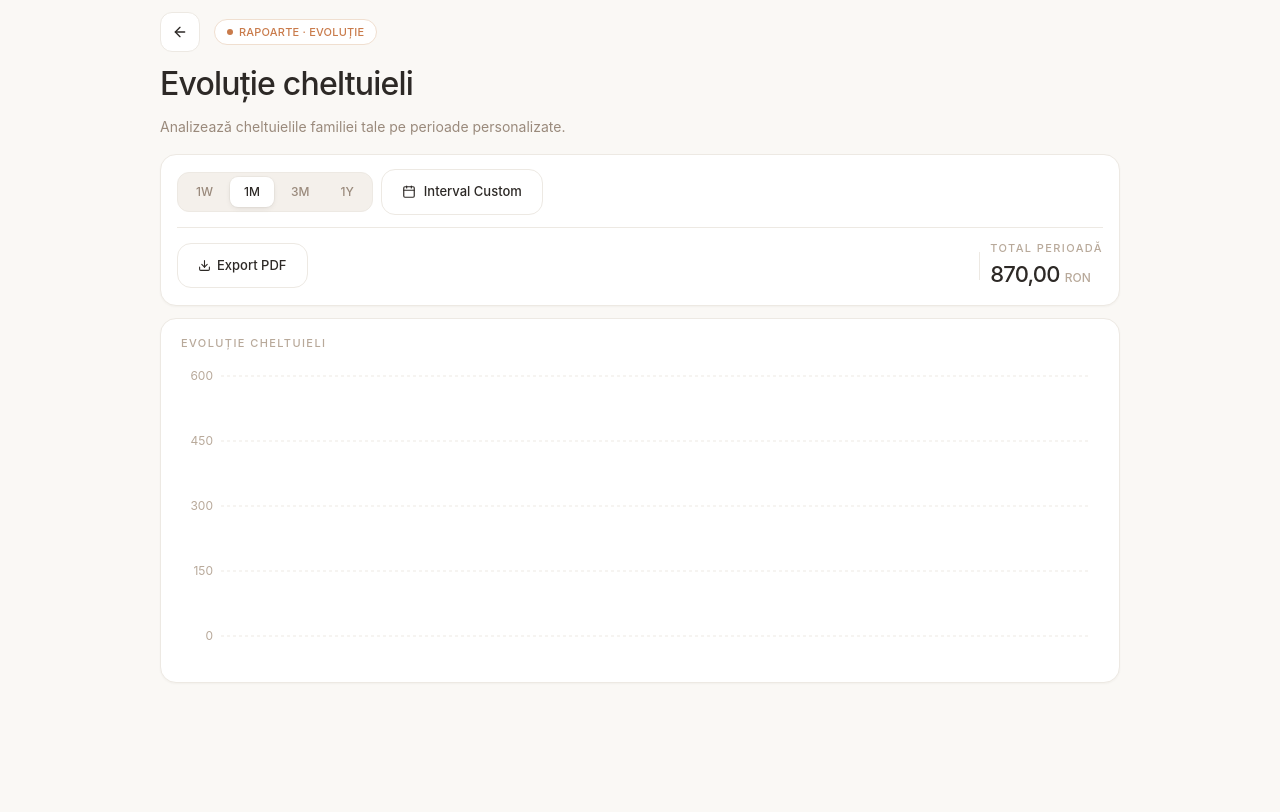
Reports Component › afișează eroare cronologică dacă start > end
Click the button "Interval Custom": click(462, 192) left=381, top=169, right=543, bottom=215
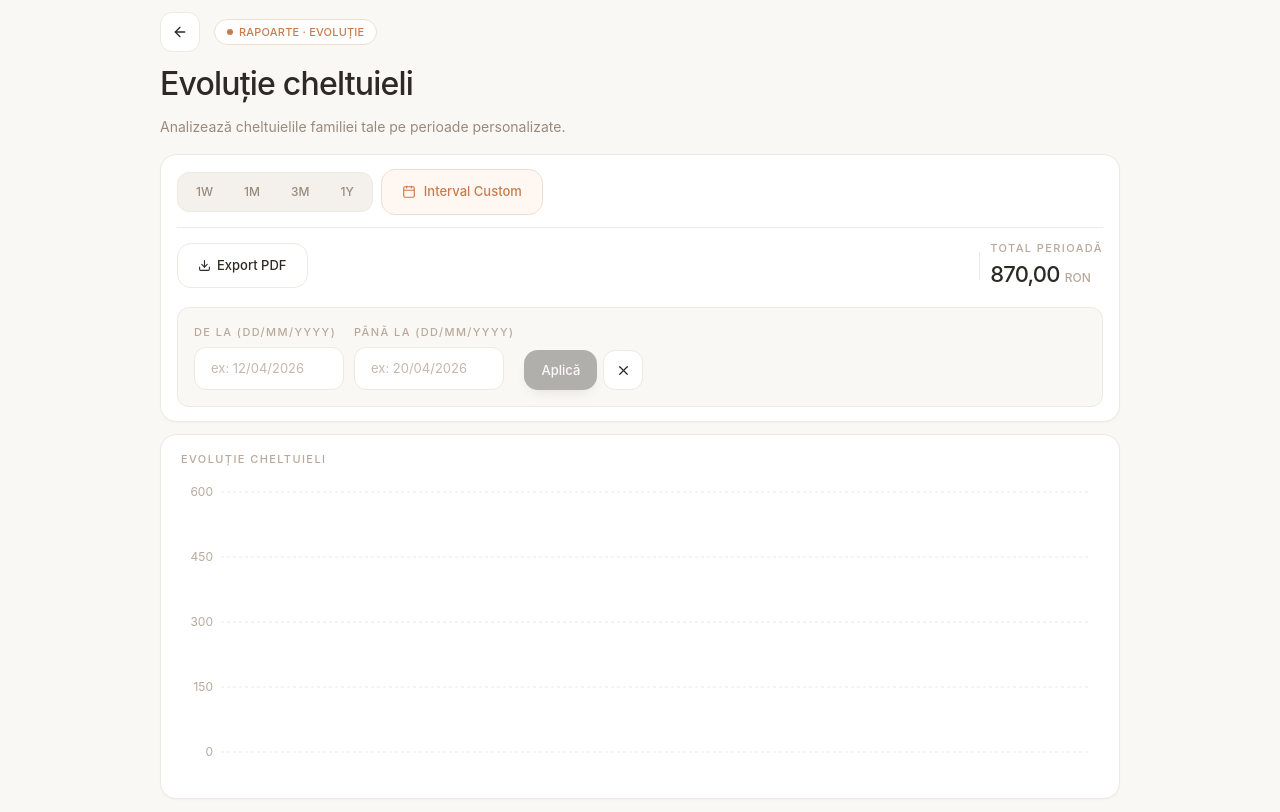
In the field with placeholder "ex: 12/04/2026": (269, 369) left=194, top=347, right=344, bottom=390, type "20/04/2026"
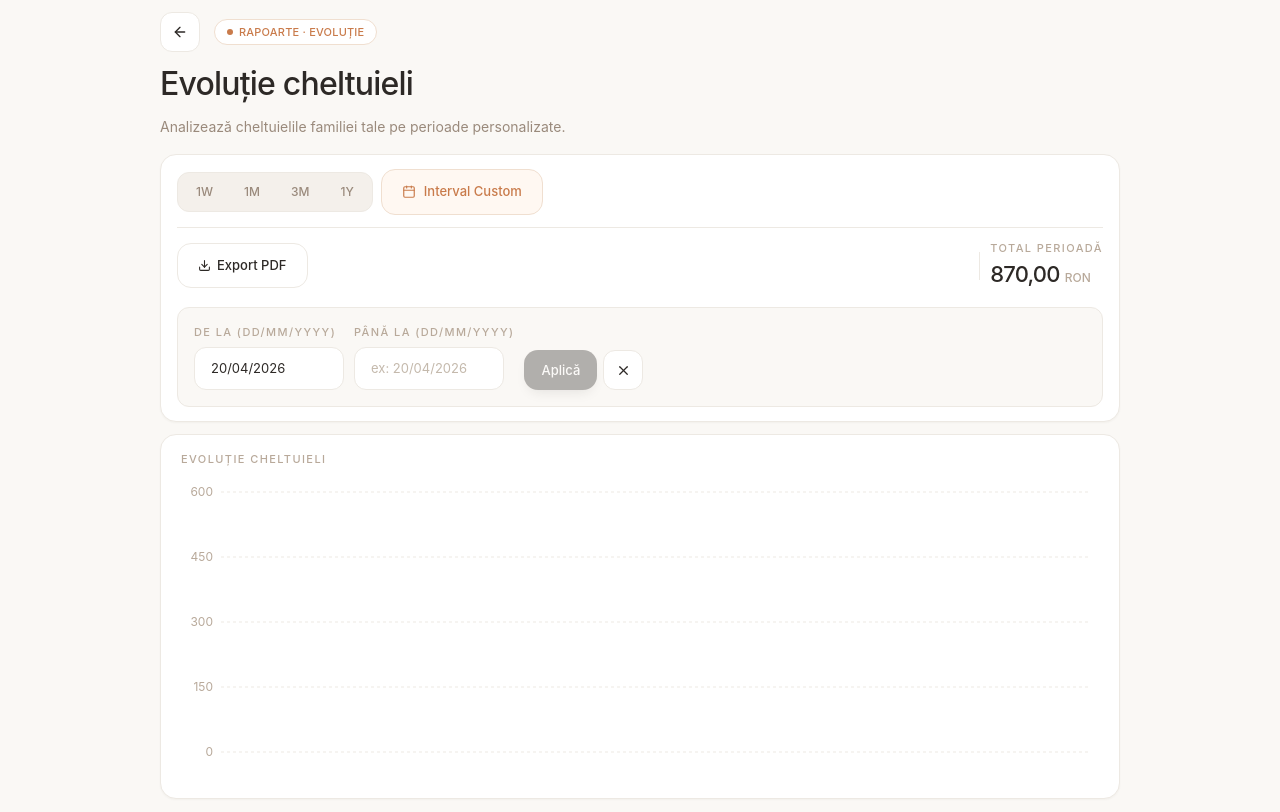
In the field with placeholder "ex: 20/04/2026": (429, 369) left=354, top=347, right=504, bottom=390, type "10/04/2026"
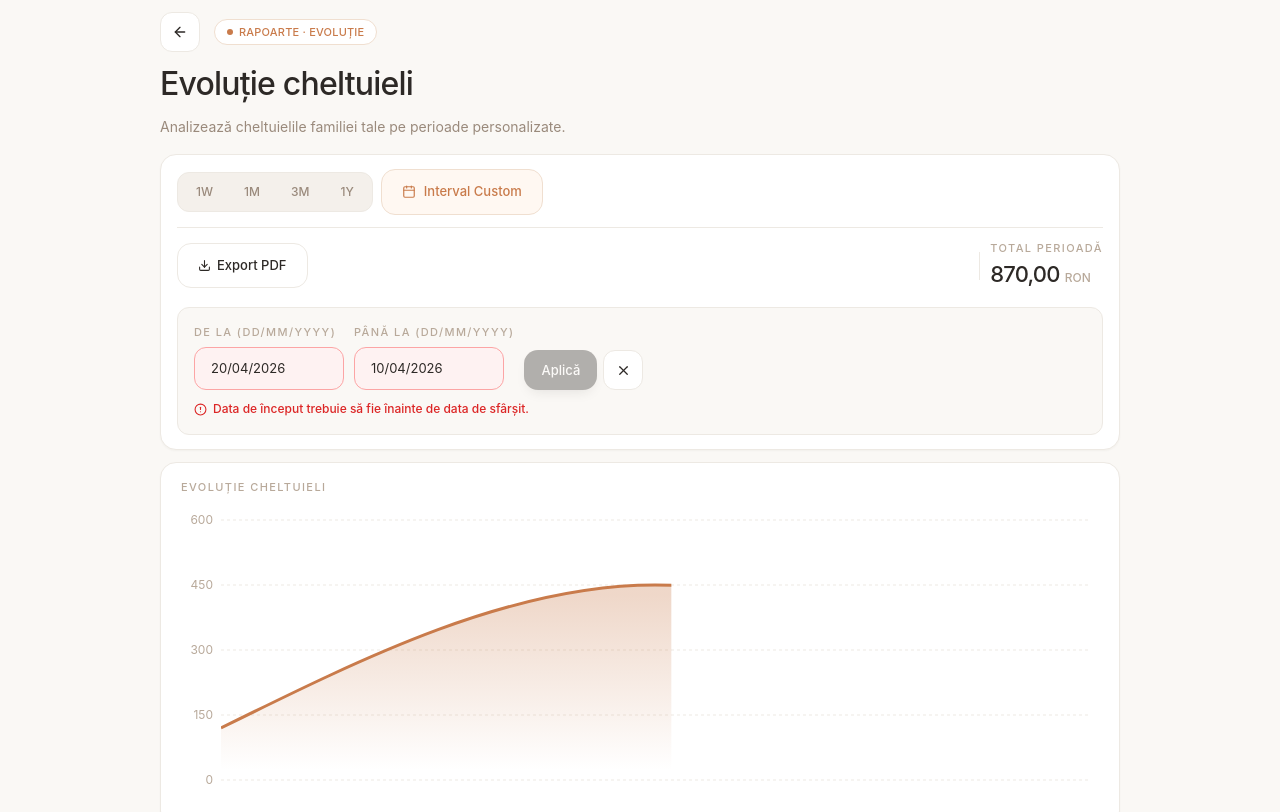
Result: the button "Aplică" is disabled at left=524, top=350, right=597, bottom=390
Result: the text "Data de început trebuie să fie înainte de data de sfârșit." is shown at left=194, top=401, right=529, bottom=416
